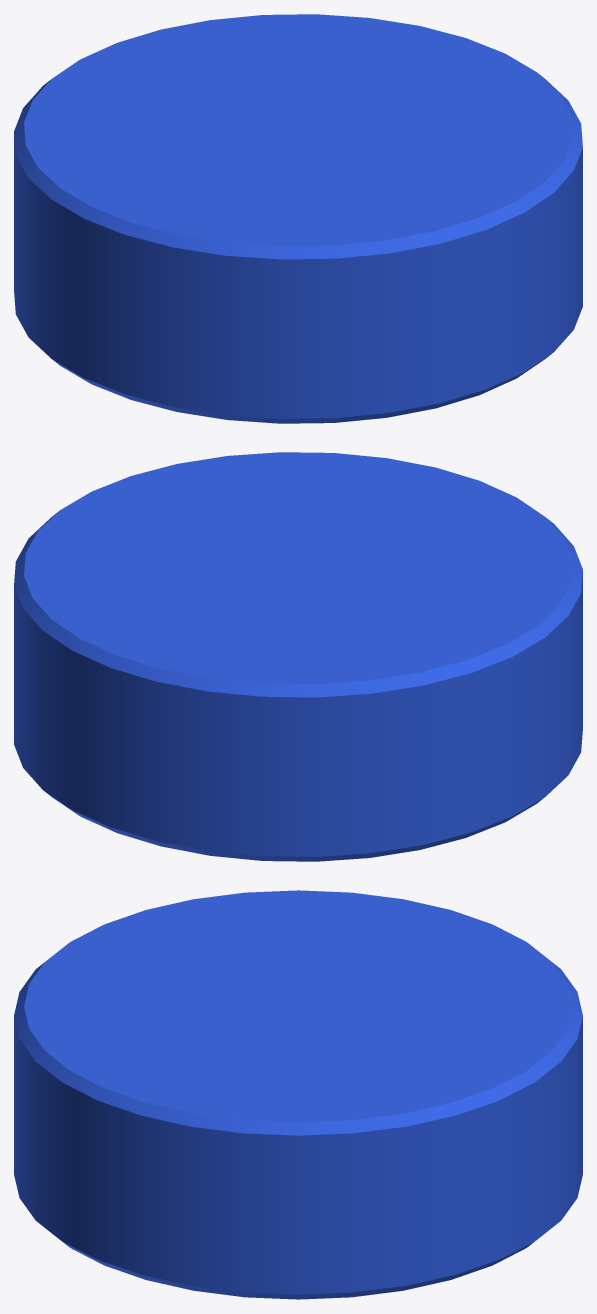
Rendered from puck_2.fbx.
The picture shows the model from 3 angles, top to bottom: view 1: azimuth 30°, elevation 25°; view 2: azimuth 150°, elevation 25°; view 3: azimuth 270°, elevation 25°; orthographic projection.
Parts seen in each view (by area): view 1: Cylinder; view 2: Cylinder; view 3: Cylinder.
Part boxes in pixels (x1,y1,x2,y2): Cylinder: (14,14,582,423); Cylinder: (14,452,582,861); Cylinder: (14,890,582,1299).
Size of the model in its own units: 200 by 68.71 by 200.
